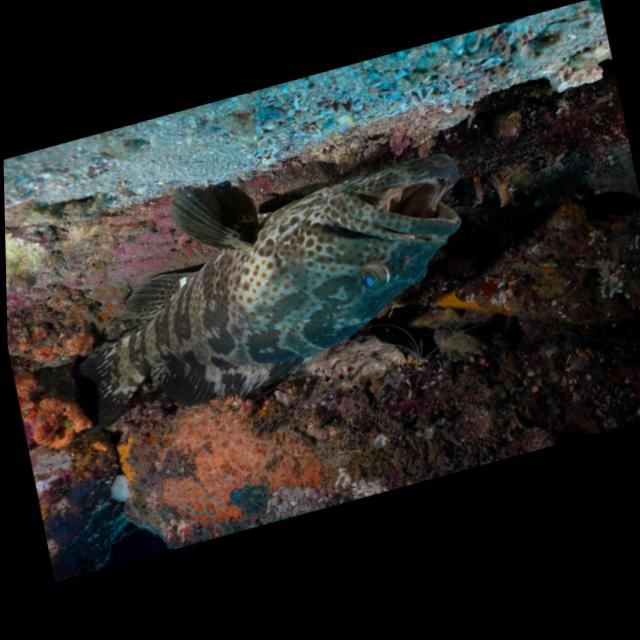Groupers: (39, 111, 495, 445)
